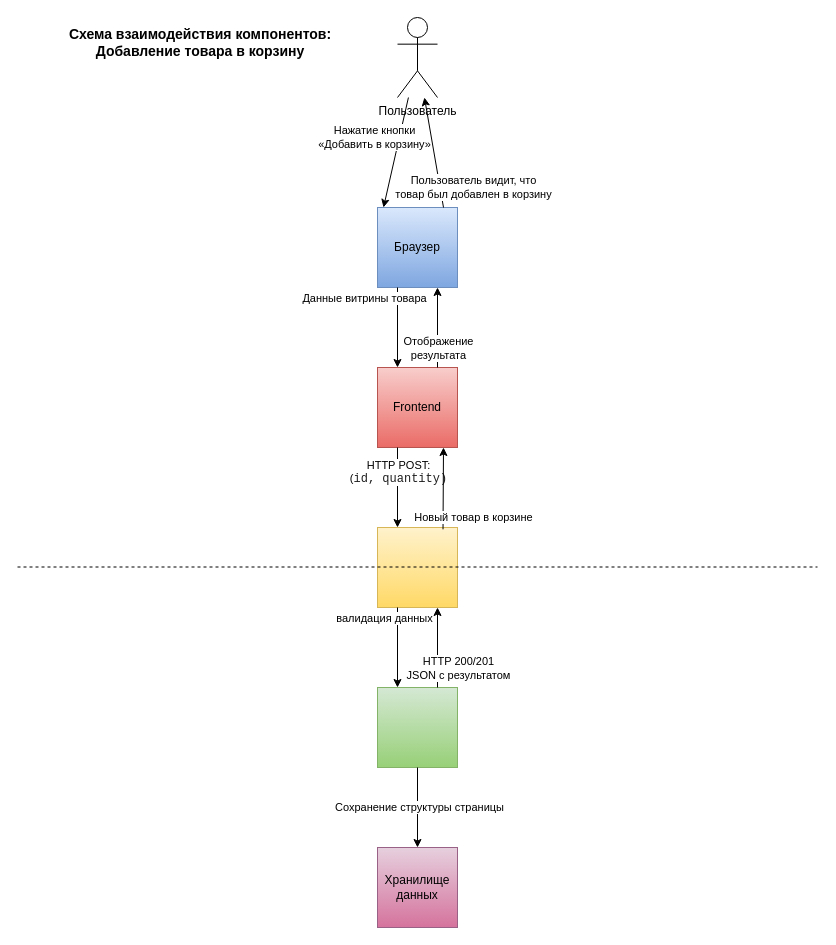
Image size: 836x945. Some labels were removed from this diagram. Here are the shapes that lost their labels. From the top down, the centre of each, then its label:
At point 417,567: "API".
At point 417,727: "Backend".
